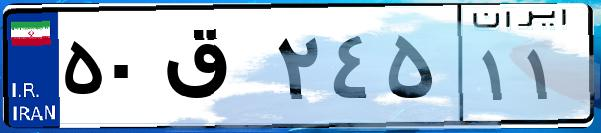0: (110, 28, 158, 98)
1: (475, 38, 525, 113), (525, 38, 570, 115)
2: (270, 28, 330, 110)
4: (330, 28, 385, 110)
5: (385, 28, 445, 110), (57, 26, 110, 100)
ق: (158, 20, 270, 120)
